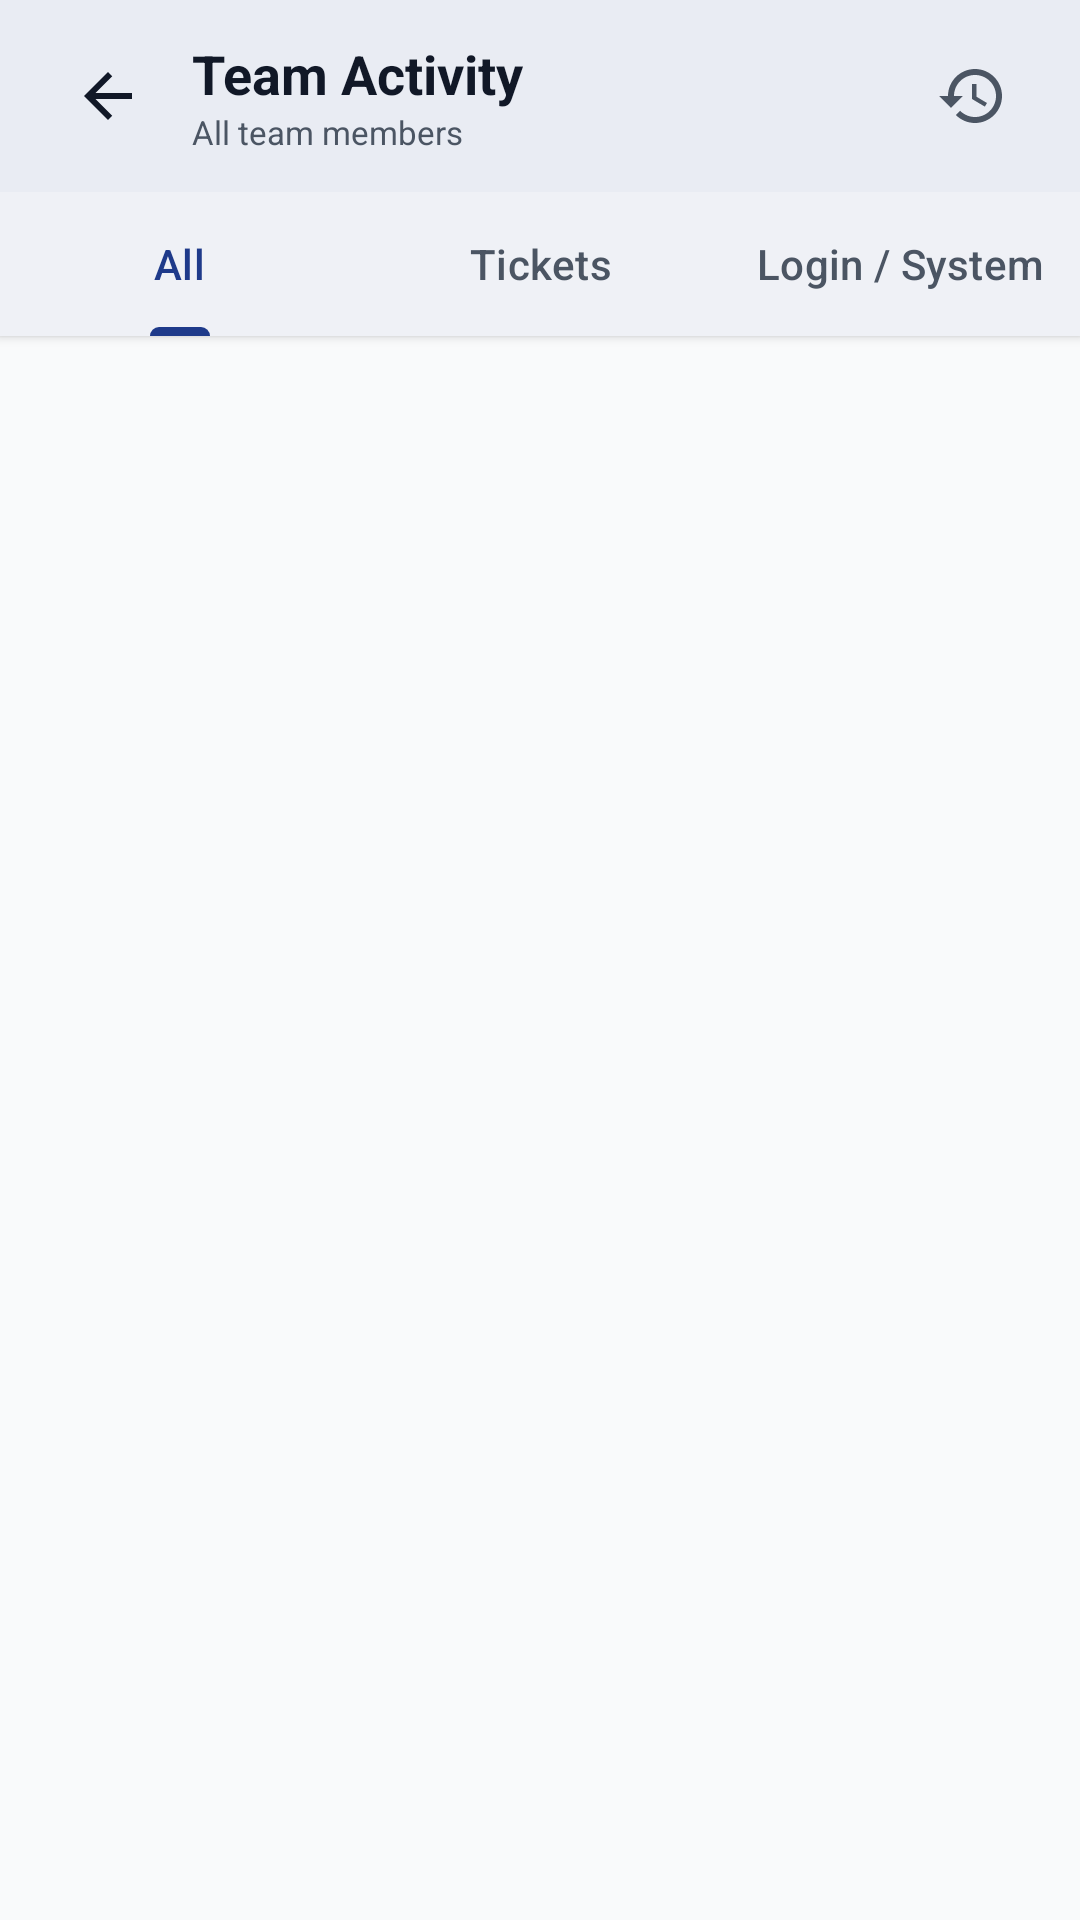

Icon bounding boxes for this 1080 x 1920 phone screenshot, format (x1, y1, x2, y2):
arrow back: (84, 72, 132, 120)
history: (939, 69, 1002, 123)
